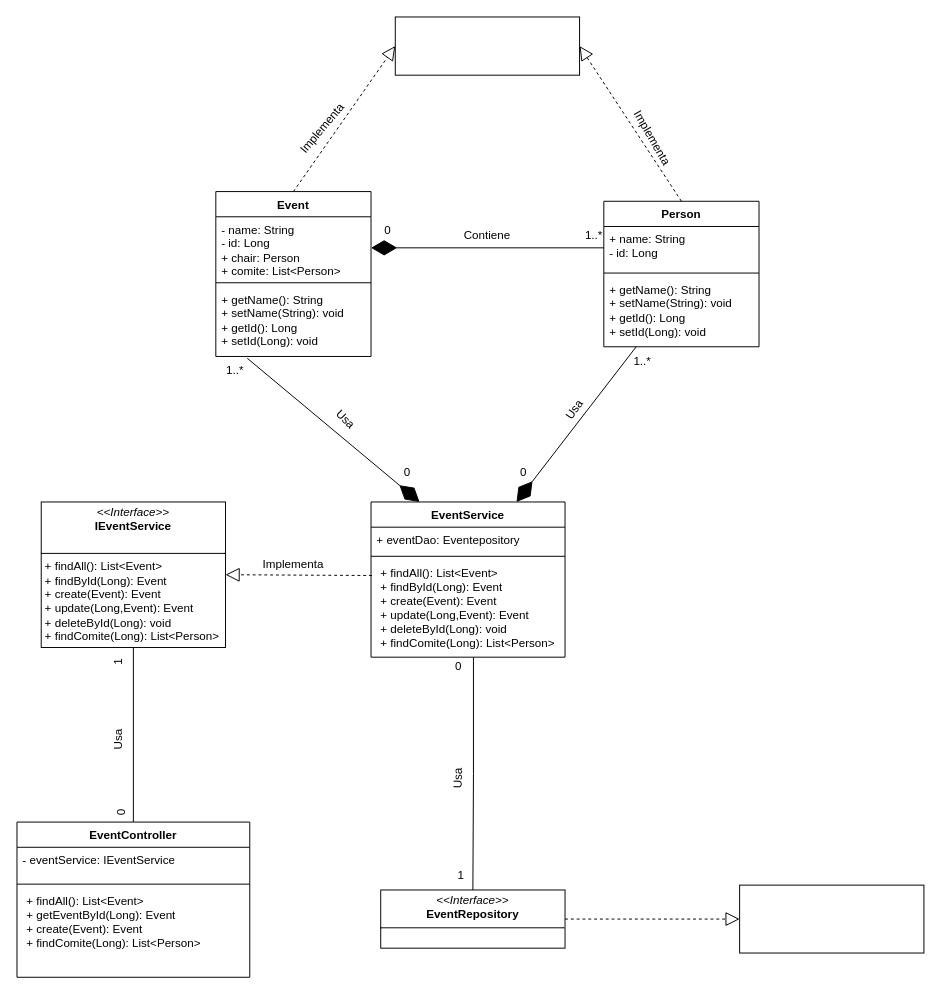
The diagram is 941 pixels wide and 997 high, and some of its shapes have lost their labels. Here are the shapes that lost their labels. From the top down, the centre of each, then its label:
At point 487,45: "<<Interface>> Serializable".
At point 831,918: "<<Interface>> CrudRepository".
